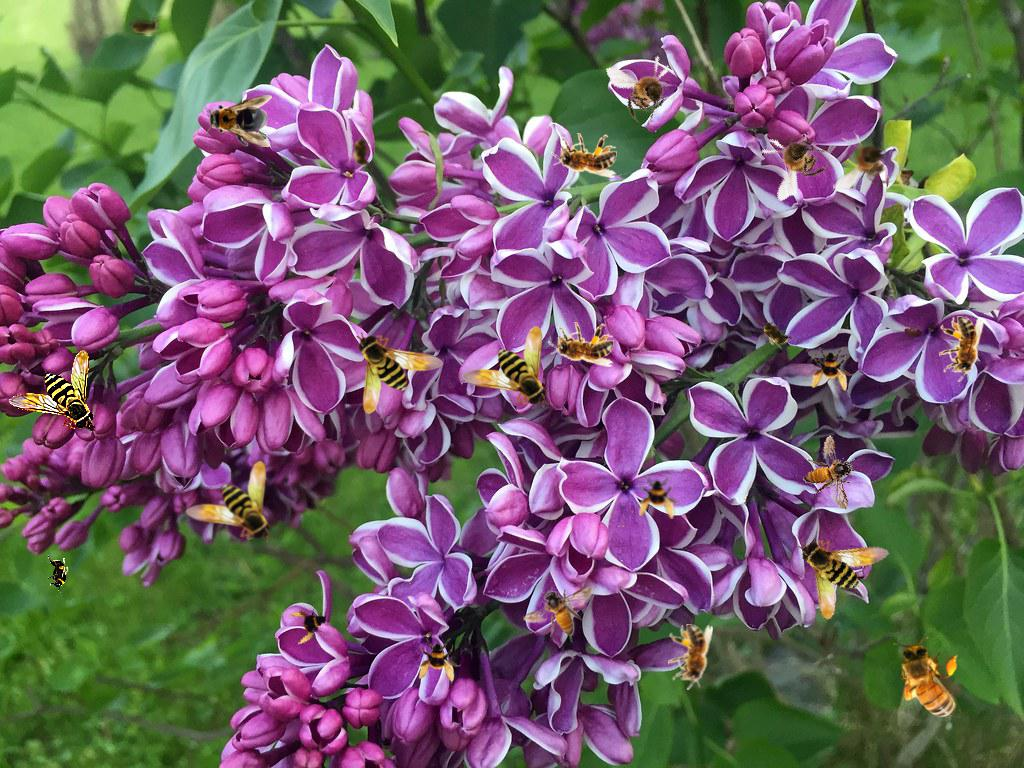Bee: (796, 521, 902, 623), (751, 115, 842, 203), (605, 46, 688, 134), (8, 350, 96, 432), (356, 332, 444, 414), (185, 461, 273, 543), (461, 326, 549, 408), (893, 637, 961, 730), (798, 431, 862, 512), (833, 130, 903, 191), (522, 585, 594, 638), (204, 95, 272, 147), (283, 596, 341, 654), (668, 624, 713, 690), (551, 133, 617, 178), (548, 322, 614, 367), (939, 316, 984, 382), (753, 310, 797, 356), (810, 347, 854, 391), (637, 475, 681, 519), (417, 638, 461, 682), (351, 132, 373, 172), (47, 554, 69, 594), (124, 15, 164, 37)
